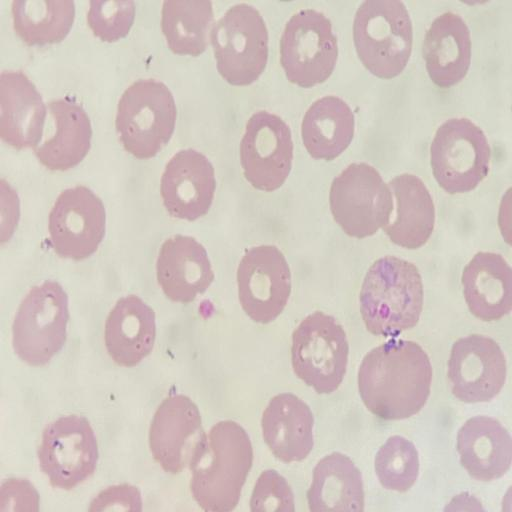Infected: (360, 256, 422, 330)
Uninfected: (360, 341, 431, 419), (291, 308, 351, 396), (193, 421, 251, 512), (429, 116, 493, 195), (116, 78, 178, 159), (278, 8, 339, 87), (14, 280, 70, 366), (352, 0, 413, 78), (37, 415, 102, 488), (376, 171, 437, 248), (211, 5, 268, 86), (329, 164, 393, 236), (236, 246, 295, 324), (159, 148, 219, 224), (31, 97, 93, 170), (151, 393, 210, 469), (237, 111, 292, 192), (48, 187, 108, 259), (446, 334, 508, 402), (153, 234, 214, 302), (104, 295, 160, 368), (457, 415, 512, 480), (427, 13, 473, 89), (262, 395, 313, 463), (461, 253, 512, 321), (0, 70, 43, 148), (302, 96, 353, 160), (162, 0, 216, 58), (373, 435, 421, 494)
